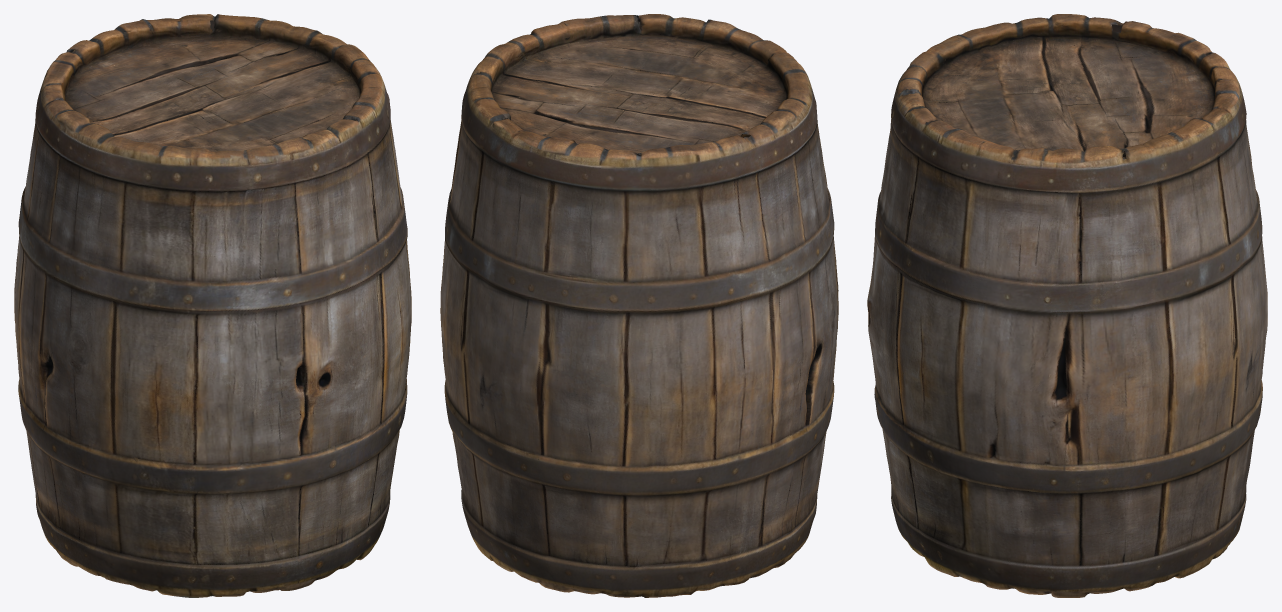
Rendered from Source.fbx.
3 views of the same model, side by side, from view 1: azimuth 30°, elevation 25°; view 2: azimuth 150°, elevation 25°; view 3: azimuth 270°, elevation 25° (orthographic).
Visible parts, largest first — view 1: input; view 2: input; view 3: input.
Boxes of the visible parts, left/top/right/bottom form: input: left=14, top=14, right=411, bottom=597; input: left=440, top=14, right=838, bottom=597; input: left=867, top=14, right=1267, bottom=597.
Bounding box in the file's own units: 155 × 191 × 156.
Materials: 1 (1 with a texture image).
